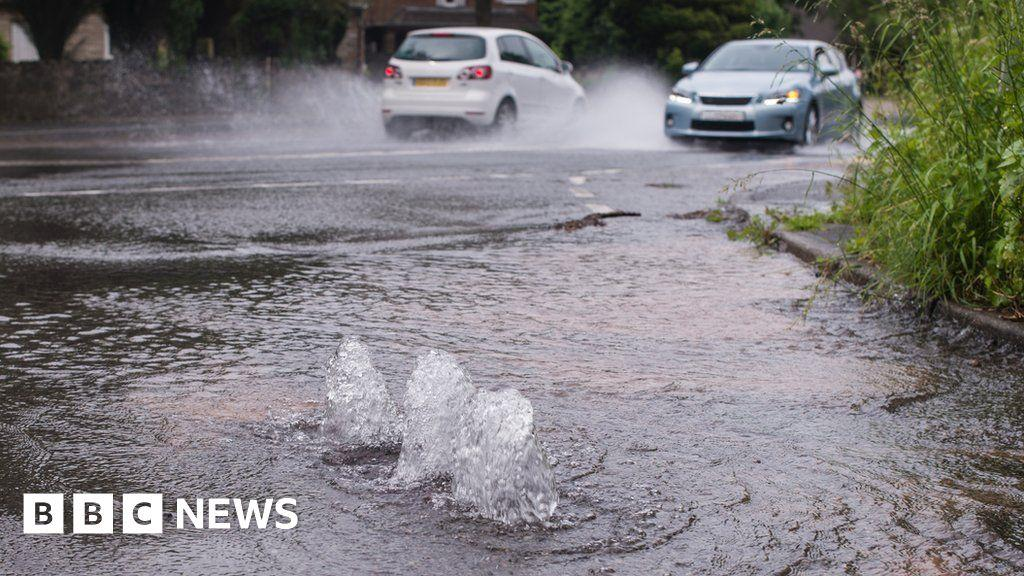water_leak: (298, 239, 633, 528)
